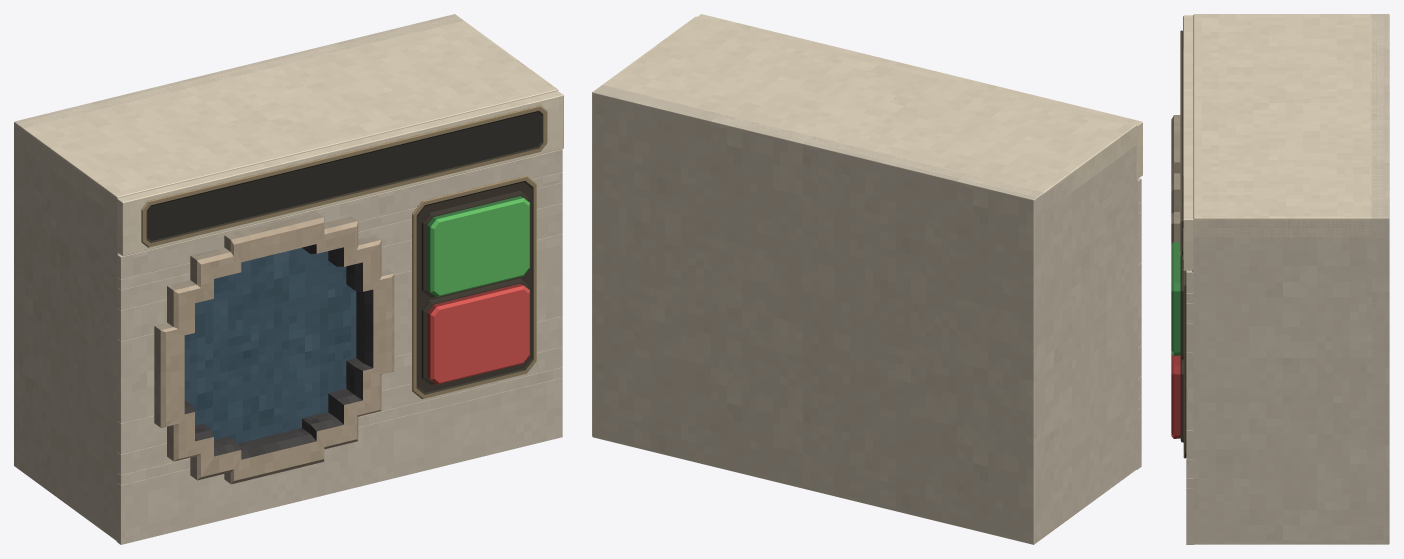
Rendered from Washer.glb.
3 renders of one model, left to right at view 1: azimuth 30°, elevation 25°; view 2: azimuth 150°, elevation 25°; view 3: azimuth 270°, elevation 25°, orthographic. The views are drawn at different scales.
Parts seen in each view (by area): view 1: Washer.Case, Washer.FrontPanel, Washer.PreviewGlass, Washer.Bezel, Washer.ProjectName.Frame, Washer.Open.Keycap, Washer.Delete.Keycap, Washer.Controls, Washer.ActionPlate, Washer.Open.Socket, Washer.Delete.Socket; view 2: Washer.Case, Washer.Controls, Washer.FrontPanel; view 3: Washer.Case, Washer.Controls, Washer.FrontPanel, Washer.Bezel, Washer.Open.Keycap, Washer.Delete.Keycap, Washer.ActionPlate, Washer.ProjectName.Frame, Washer.Open.Socket, Washer.Delete.Socket.
Boxes of the visible parts, x1,y1,x2,y2 form: Washer.Case: [14, 14, 558, 540]; Washer.FrontPanel: [116, 149, 562, 544]; Washer.PreviewGlass: [184, 247, 356, 443]; Washer.Bezel: [154, 212, 394, 484]; Washer.ProjectName.Frame: [141, 105, 547, 247]; Washer.Open.Keycap: [427, 196, 529, 297]; Washer.Delete.Keycap: [427, 283, 529, 384]; Washer.Controls: [115, 91, 563, 256]; Washer.ActionPlate: [412, 175, 536, 398]; Washer.Open.Socket: [421, 191, 528, 297]; Washer.Delete.Socket: [421, 278, 528, 384]; Washer.Case: [592, 16, 1137, 544]; Washer.Controls: [697, 14, 1142, 179]; Washer.FrontPanel: [1136, 178, 1141, 469]; Washer.Case: [1192, 14, 1389, 544]; Washer.Controls: [1183, 15, 1195, 270]; Washer.FrontPanel: [1186, 270, 1194, 544]; Washer.Bezel: [1171, 115, 1180, 244]; Washer.Open.Keycap: [1171, 242, 1180, 355]; Washer.Delete.Keycap: [1171, 353, 1180, 438]; Washer.ActionPlate: [1183, 270, 1186, 458]; Washer.ProjectName.Frame: [1180, 30, 1182, 255]; Washer.Open.Socket: [1180, 255, 1183, 359]; Washer.Delete.Socket: [1180, 358, 1183, 442].
Size of the model in its own units: 2.25 by 1.68 by 1.02.
14 materials, 7 textured.
